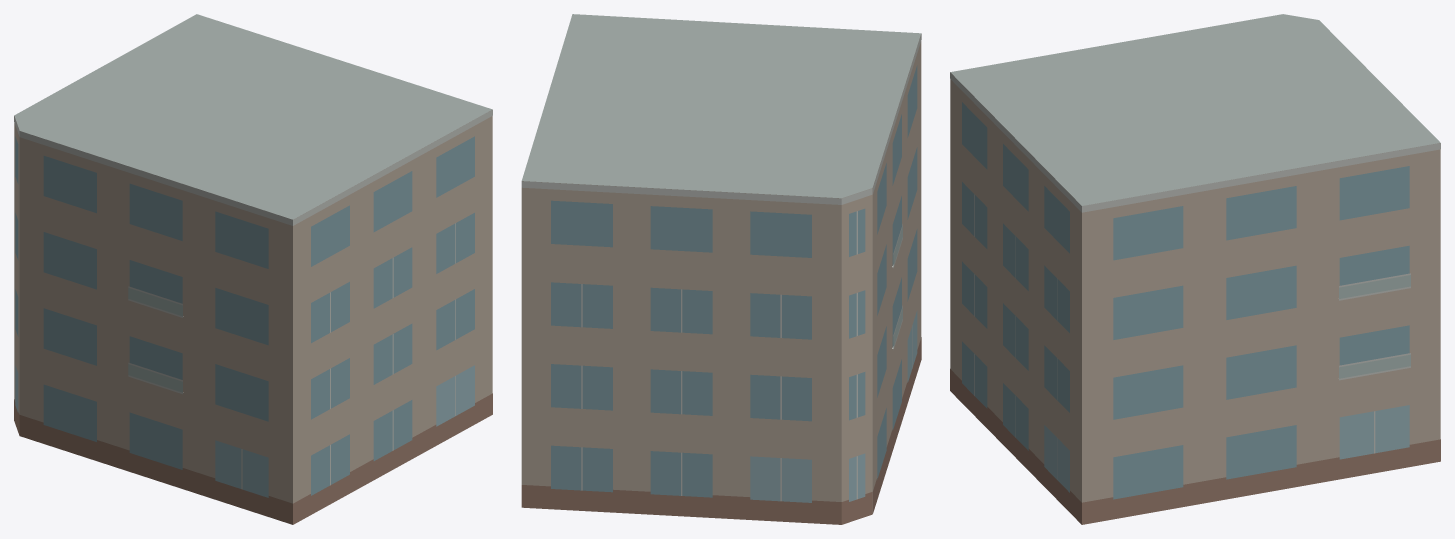
Rendered from survey-upis-33036809.glb.
3 renders of one model, left to right at view 1: azimuth 30°, elevation 25°; view 2: azimuth 150°, elevation 25°; view 3: azimuth 270°, elevation 25°, orthographic. The views are drawn at different scales.
Visible parts, largest first — view 1: survey-upis-33036809.tmp; view 2: survey-upis-33036809.tmp; view 3: survey-upis-33036809.tmp.
Part boxes in pixels (left/top/right/bottom): survey-upis-33036809.tmp: left=14, top=14, right=492, bottom=524; survey-upis-33036809.tmp: left=521, top=14, right=921, bottom=524; survey-upis-33036809.tmp: left=950, top=14, right=1440, bottom=524.
Bounding box in the file's own units: 15.26 × 11.8 × 16.47.
